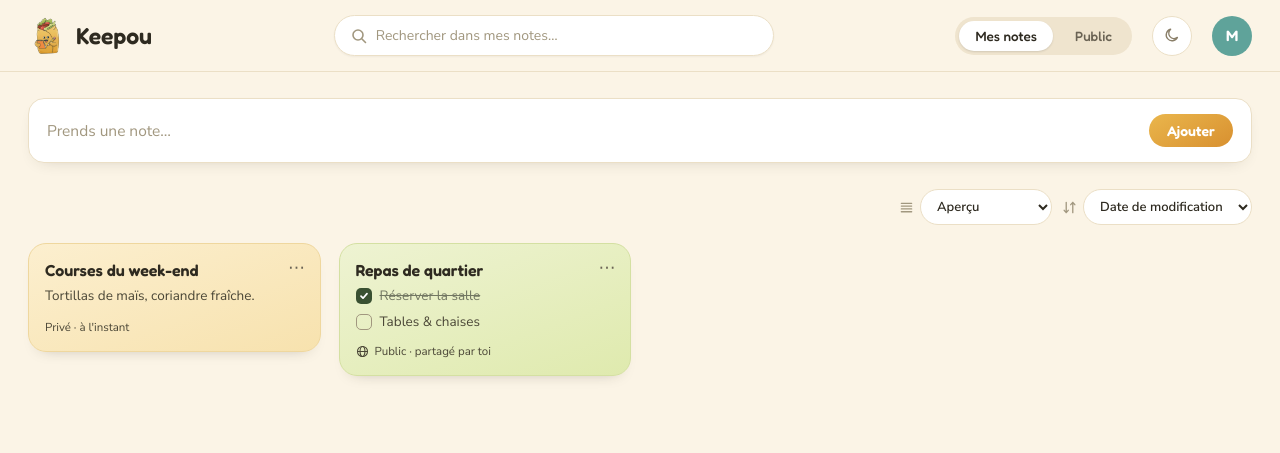
Test: BoardPage › pins a note and floats it to the top of the board (optimistic)
The image size is (1280, 453).
Expected: the button "Courses du week-end" is shown, [28,243,320,352]
Click the button named "Actions pour Repas de quartier" at (607, 267), box [594,254,620,280]
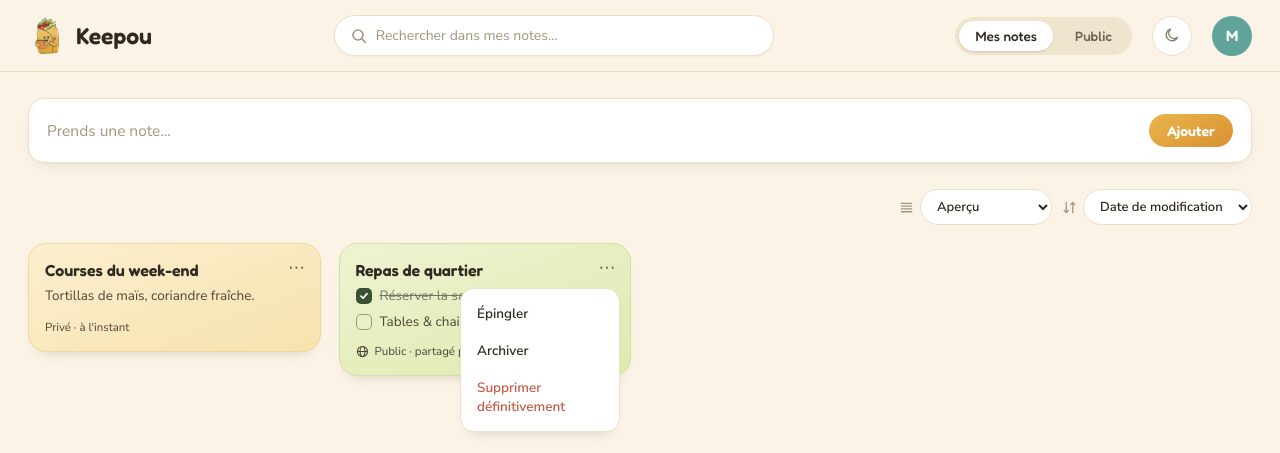
Click the menu item "Épingler" at (540, 314), box [467,295,613,332]
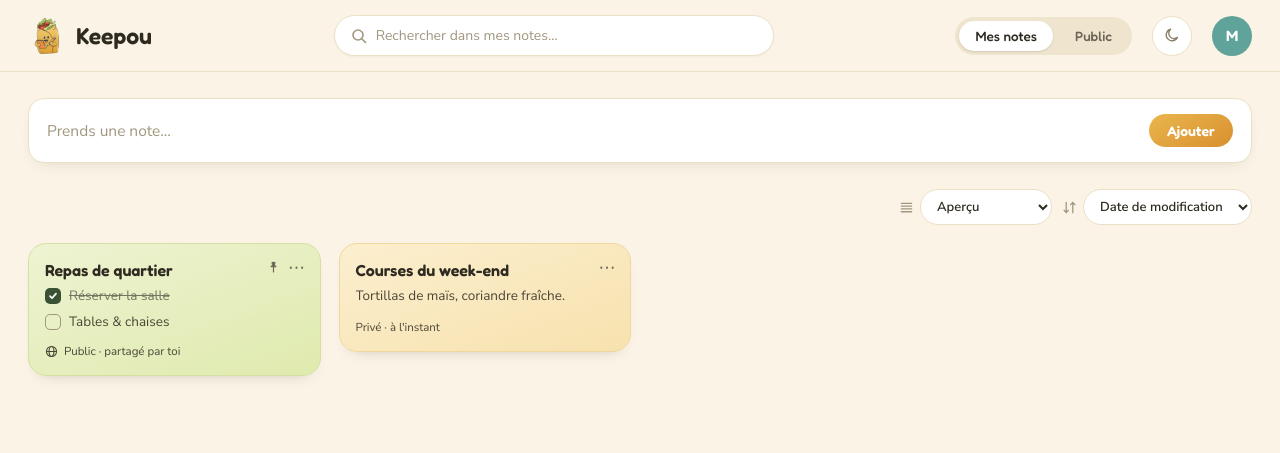
Expected: the heading with class "kp-note__title" reads "Repas de quartier", [45,260,173,280]
